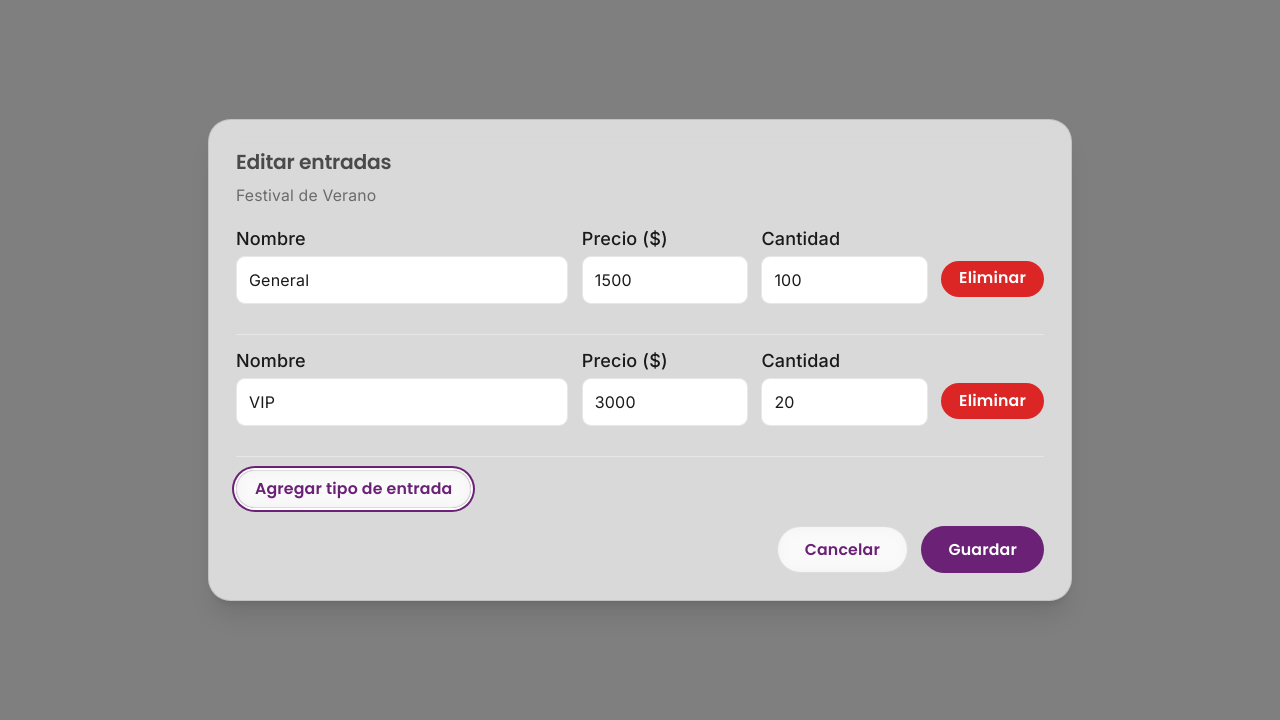
Test: EditTicketsModal › rejects the price 0 without calling the API
Replace the text in the number field named "Precio de la entrada 1" with "0" at (665, 280), box [582,256,748,304]
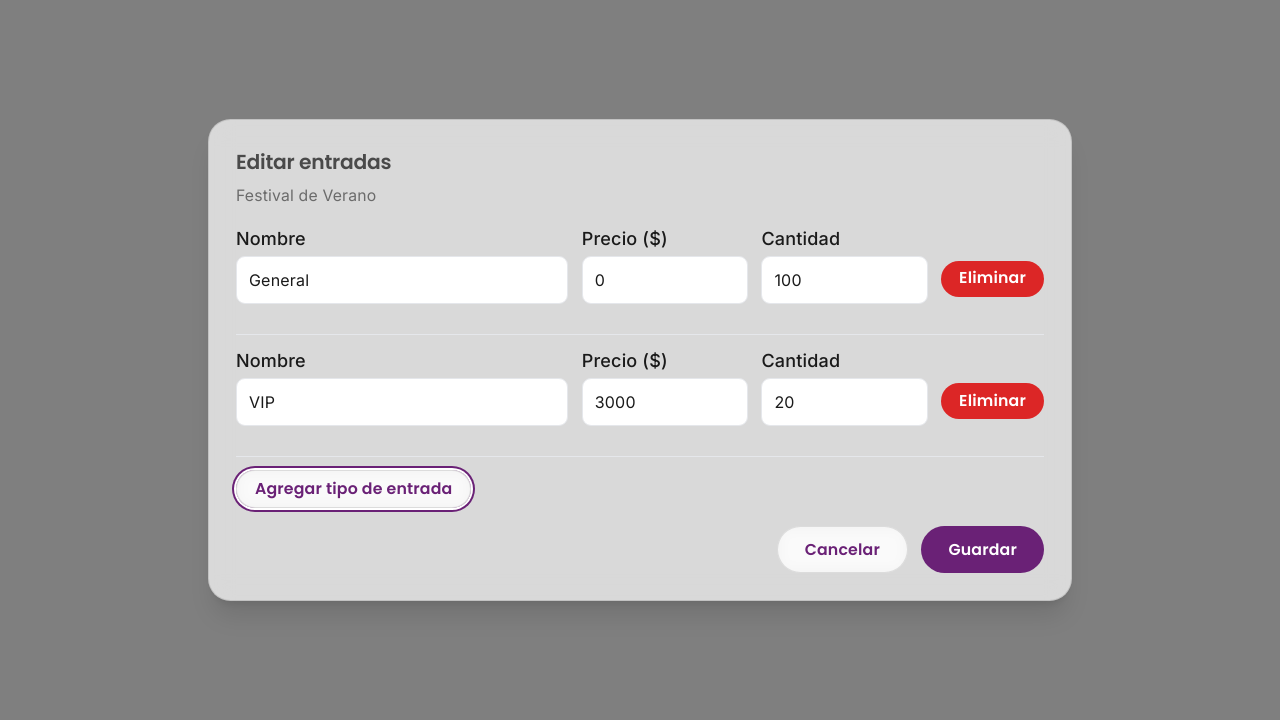
Click the button "Guardar" at (983, 550), box [922,526,1044,574]
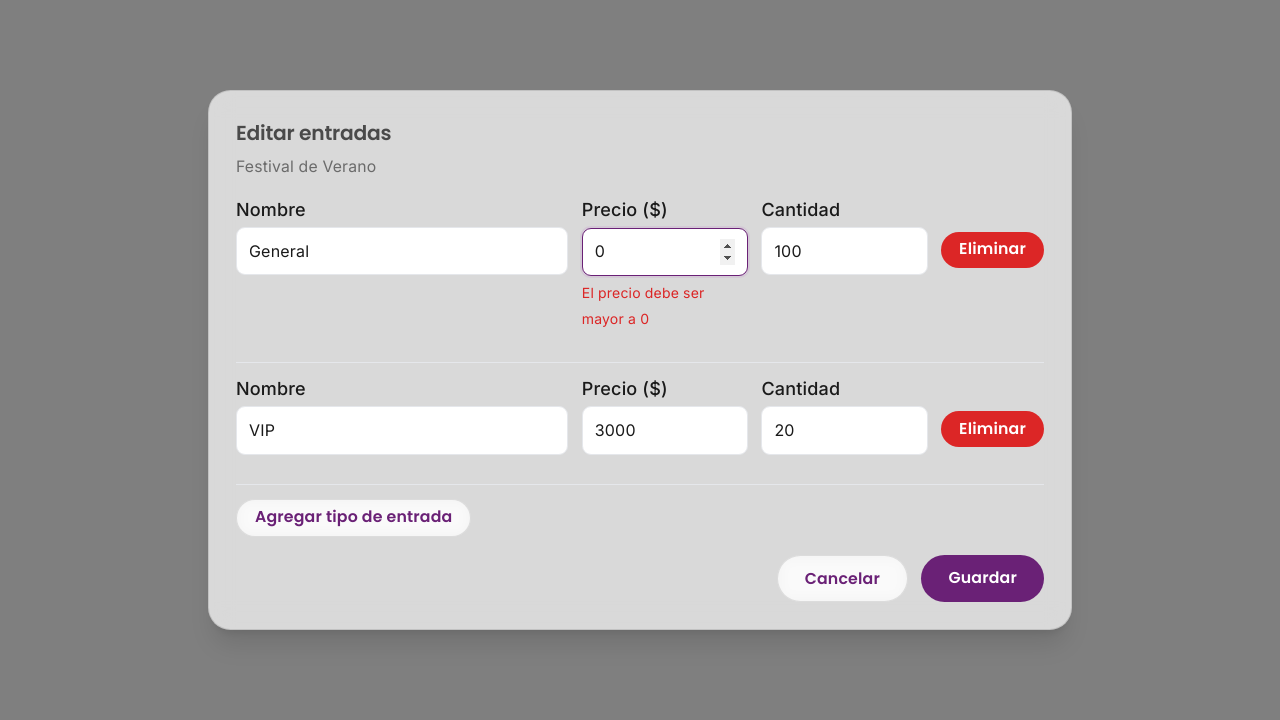
Expected: the message reads "El precio debe ser mayor a 0", [582,284,704,327]
